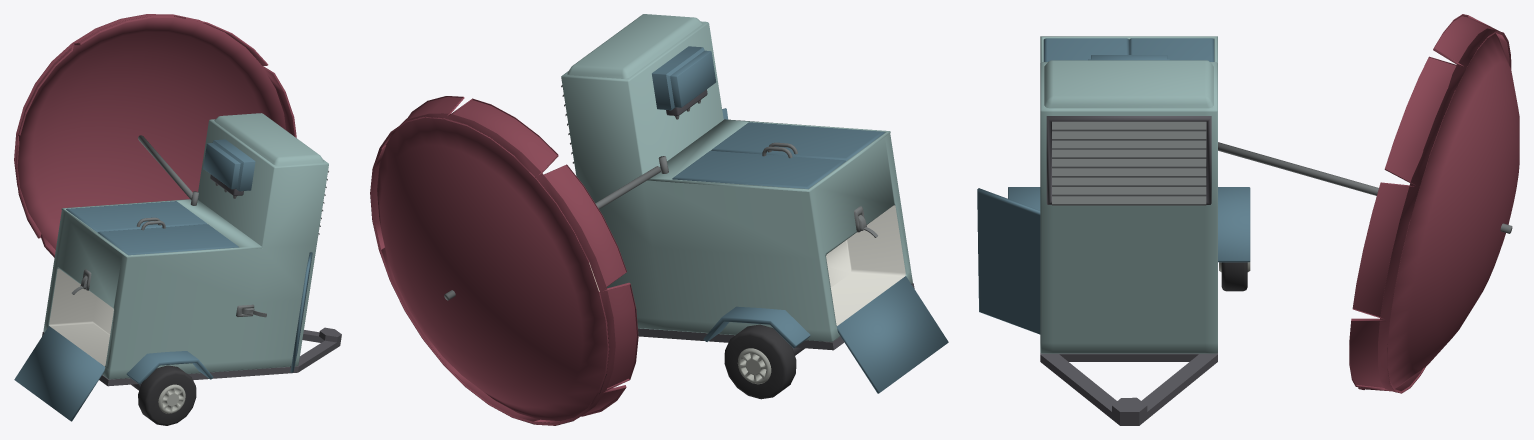
File: IceCart.fbx
3 views of the same model, side by side, from view 1: azimuth 30°, elevation 25°; view 2: azimuth 150°, elevation 25°; view 3: azimuth 270°, elevation 25° (orthographic). The views are drawn at different scales.
Parts seen in each view (by area): view 1: IceCreamCart; view 2: IceCreamCart; view 3: IceCreamCart.
Boxes of the visible parts, x1=… form: IceCreamCart: x1=14, y1=14, x2=341, y2=425; IceCreamCart: x1=370, y1=14, x2=948, y2=425; IceCreamCart: x1=977, y1=14, x2=1519, y2=425.
Size of the model in its own units: 258 by 187 by 263.
